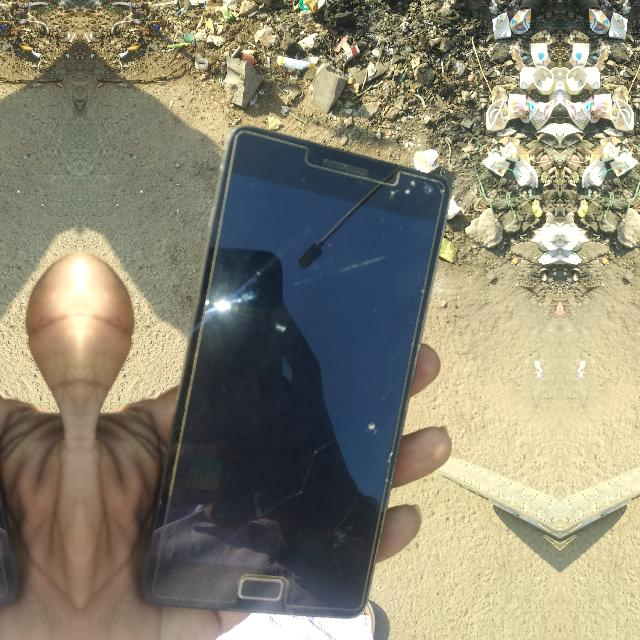phone_screen: (144, 150, 444, 615), (0, 508, 15, 602)
